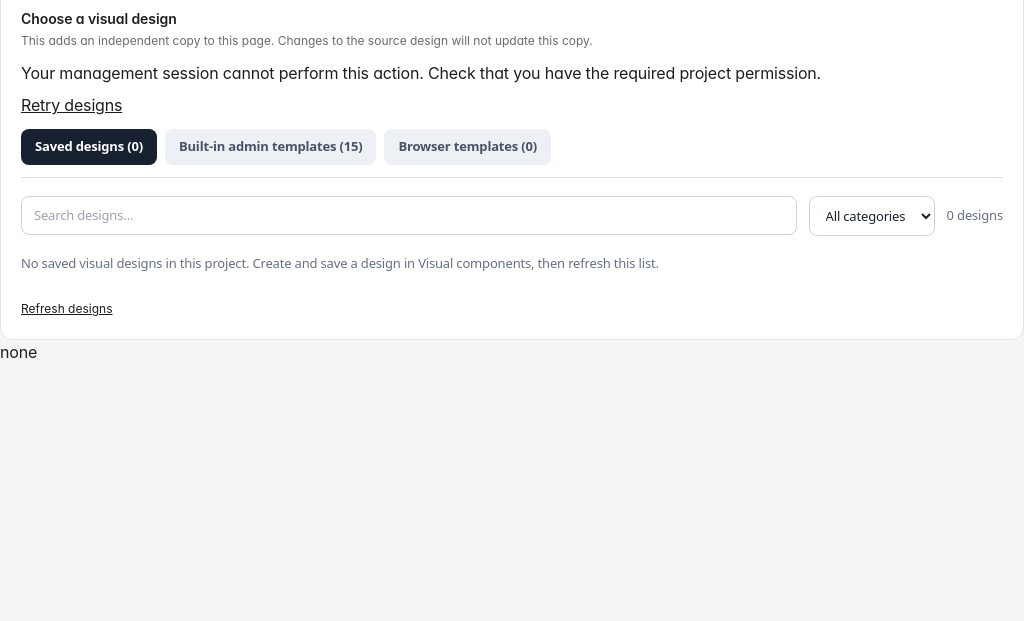
Test: keeps a built-in selection available when the project library fails and refreshes
The image size is (1024, 621).
Expected: the message is shown, [21,63,821,117]
Click the tab "Built-in admin templates (15)" at (271, 147), box [165,129,376,164]
(page scrolled)
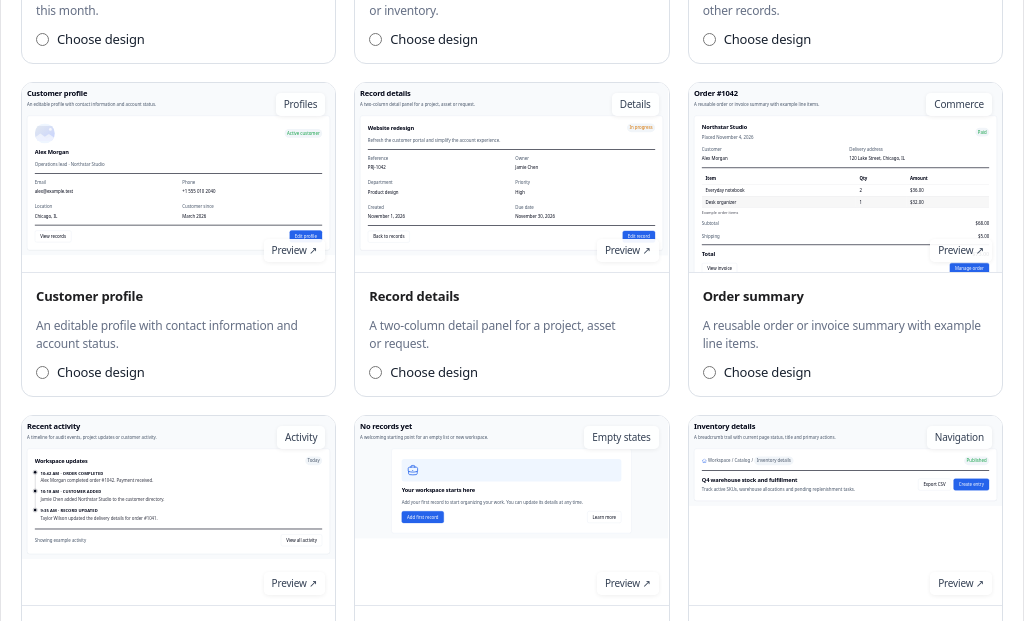
Click the radio button with aria-label "Record details" at (376, 372), box [369,366,382,379]
(page scrolled)
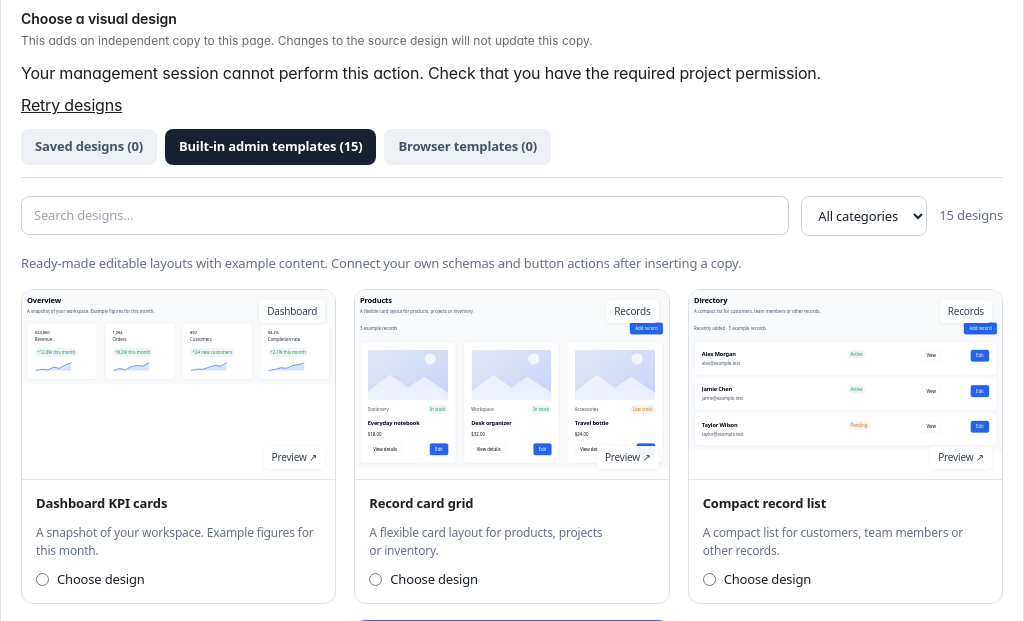
Click the button "Retry designs" at (72, 105), box [21,93,122,117]
(page scrolled)
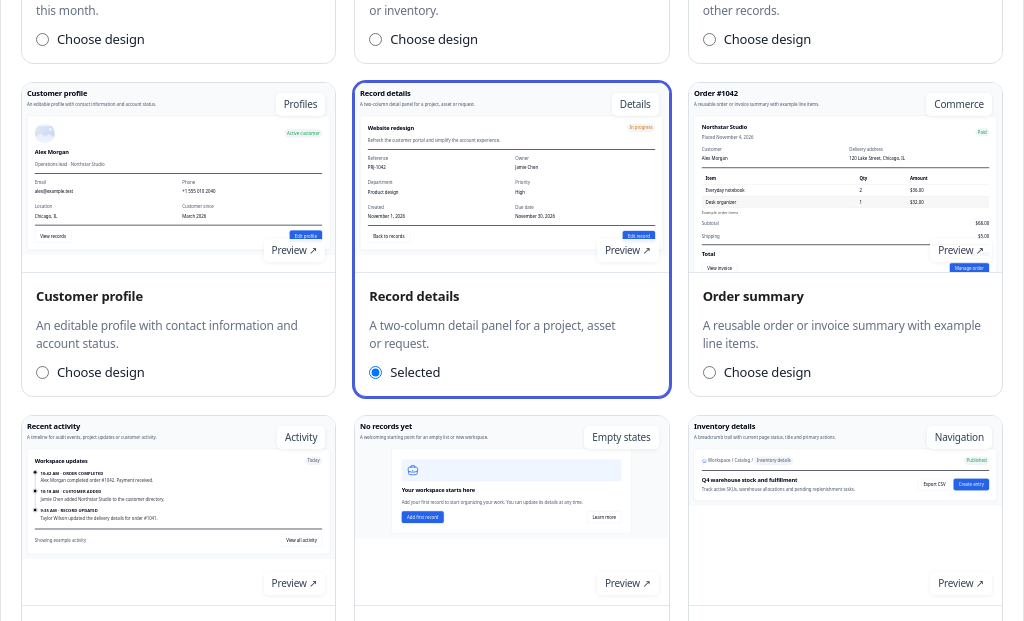
Expected: the radio button with aria-label "Record details" is checked, [369,366,382,379]
Expected: the message is gone
